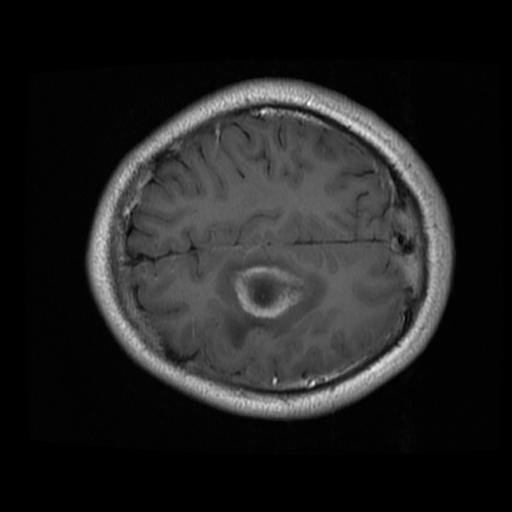glioma: (214, 255, 326, 350)
